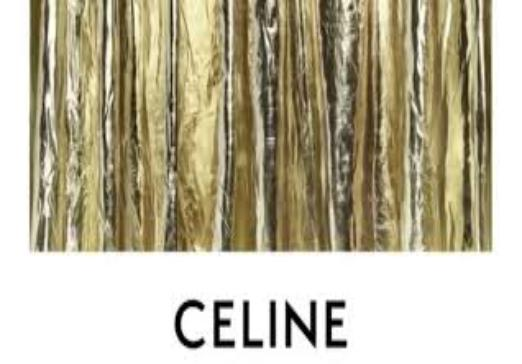CELINE: (167, 288, 361, 359)
